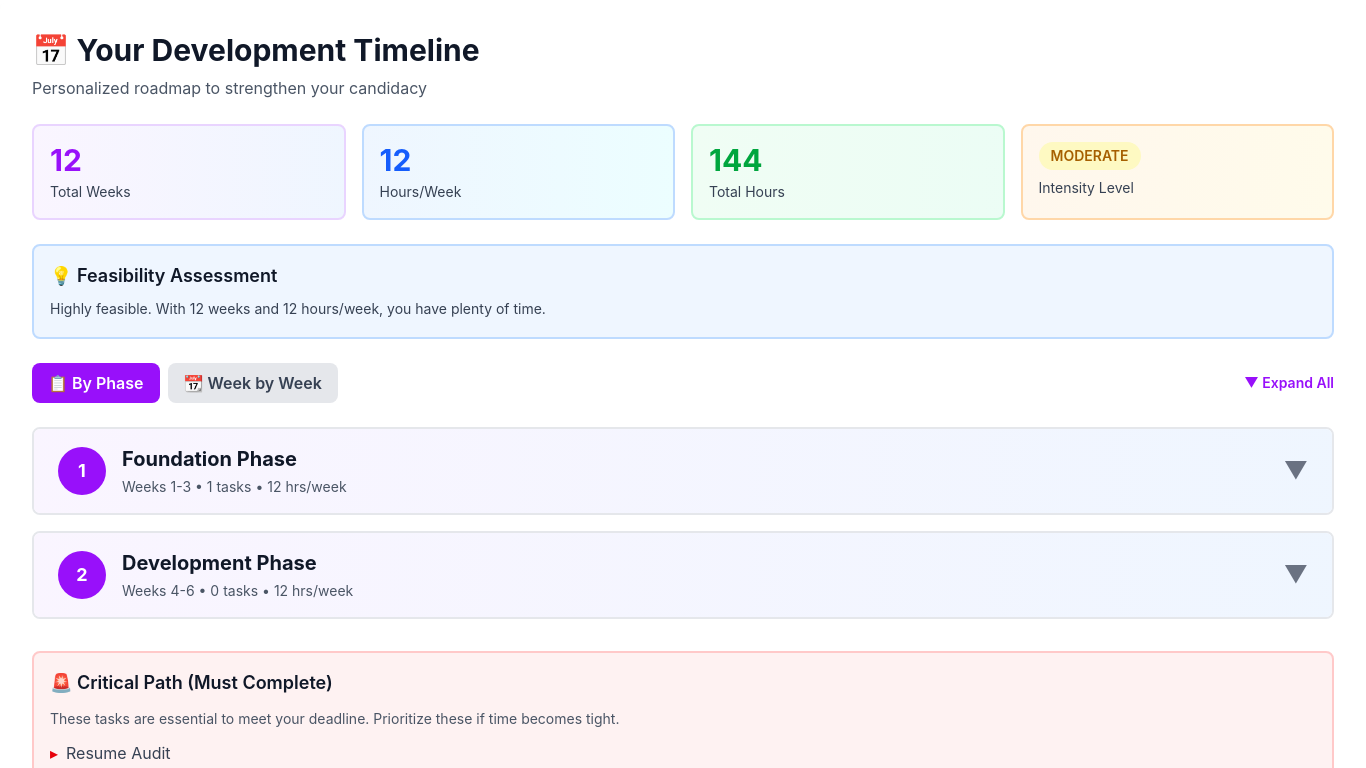
Scenario: TimelineSection › Weekly Breakdown Display › should display estimated hours
Click the button "📆 Week by Week": (253, 383) [168, 363, 338, 403]
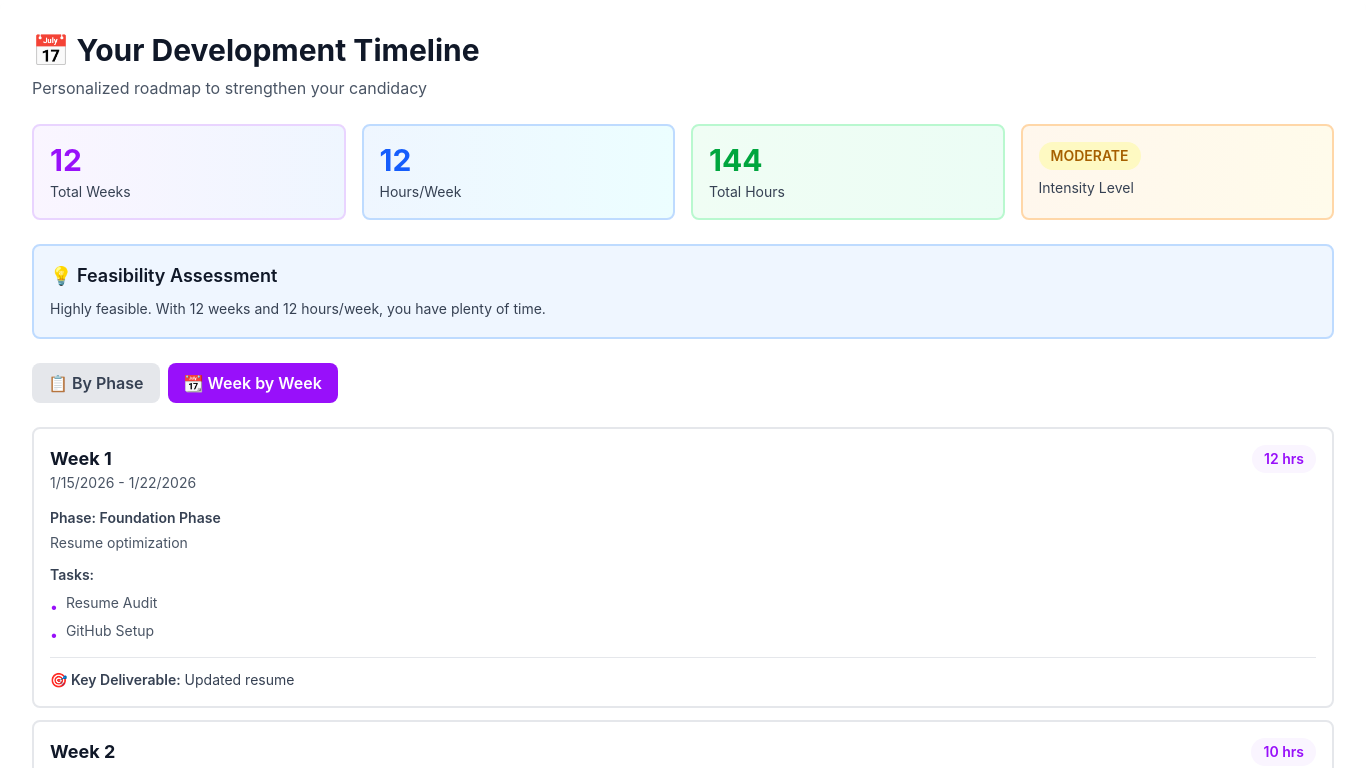
Expected: the text "12 hrs" is shown, [1252, 445, 1316, 473]
Expected: the text "10 hrs" is shown, [1252, 738, 1316, 766]
